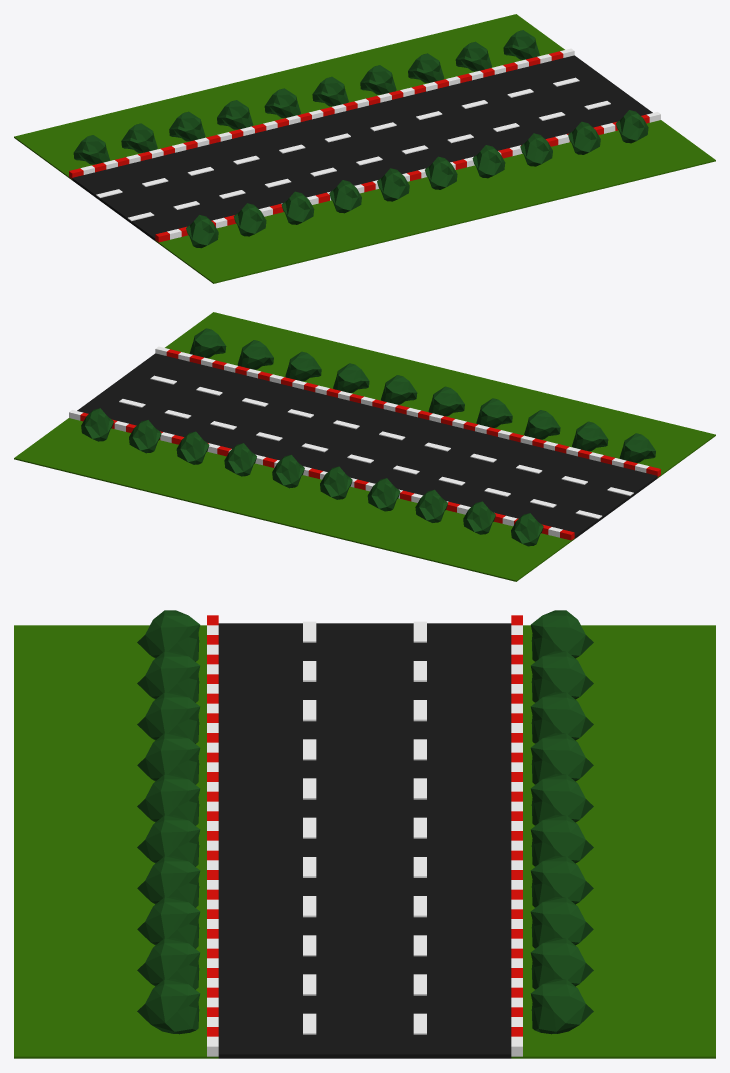
File: DroneRacingTrack.fbx
3 views of the same model, one above another, from view 1: azimuth 30°, elevation 25°; view 2: azimuth 150°, elevation 25°; view 3: azimuth 270°, elevation 25° (orthographic). The views are drawn at different scales.
Parts seen in each view (by area): view 1: RacingTrack, BushesLeft, BushesRight; view 2: RacingTrack, BushesRight, BushesLeft; view 3: RacingTrack, BushesRight, BushesLeft.
Part boxes in pixels (x1,y1,x2,y2): RacingTrack: [14, 14, 715, 283]; BushesLeft: [73, 30, 539, 164]; BushesRight: [186, 110, 648, 248]; RacingTrack: [14, 312, 715, 581]; BushesRight: [190, 328, 655, 462]; BushesLeft: [81, 408, 543, 546]; RacingTrack: [14, 615, 715, 1058]; BushesRight: [137, 610, 200, 1034]; BushesLeft: [530, 610, 593, 1034].
Size of the model in its own units: 6406 by 331 by 4407.
